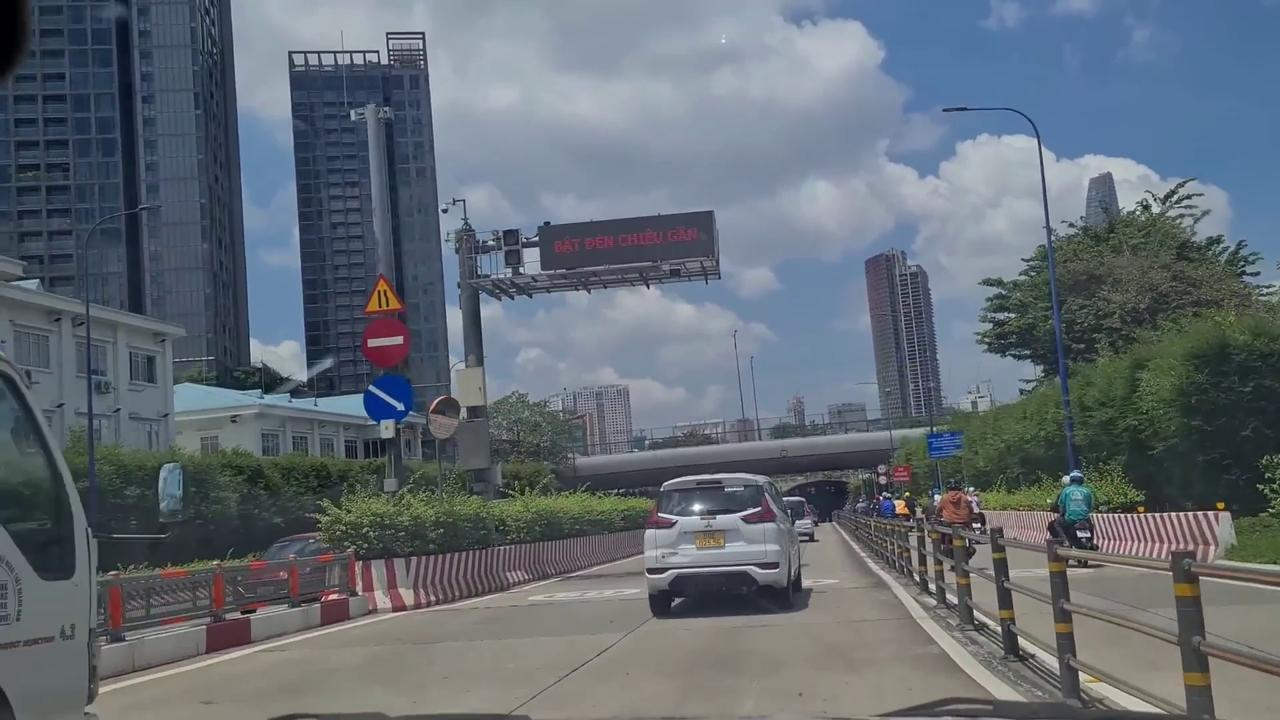Cấm đi ngược chiều: (361, 314, 414, 370)
Hướng phải đi vòng sang phải: (362, 371, 417, 429)
Đuờng hẹp: (358, 272, 406, 316)
